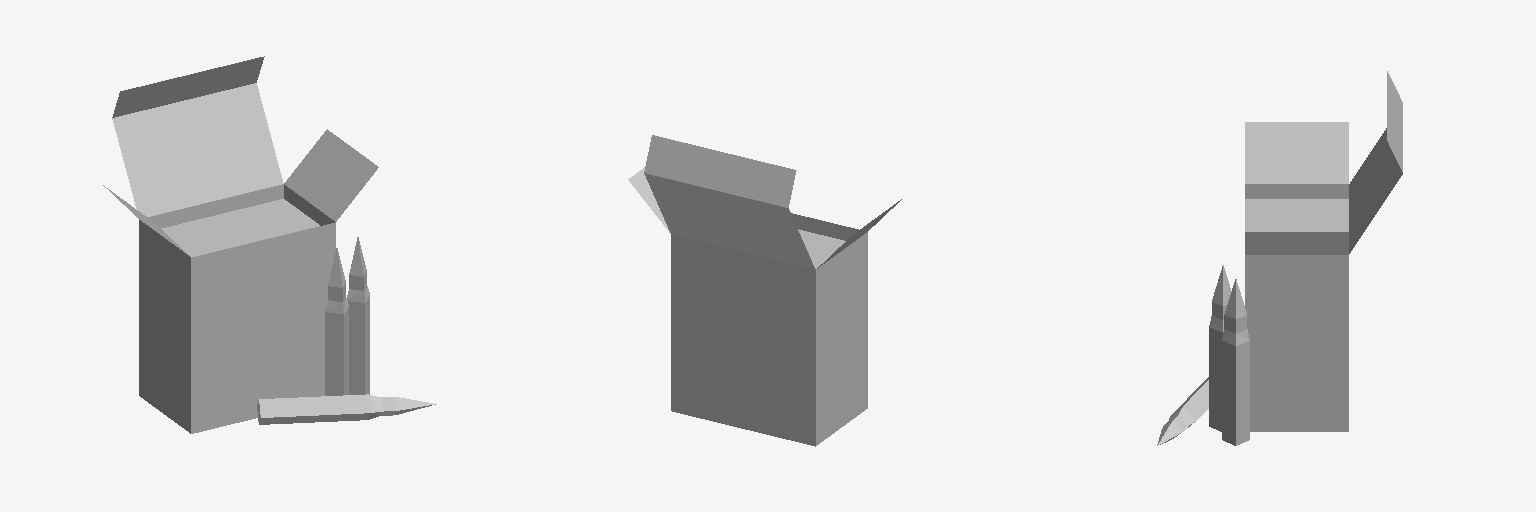
The model's file is Auto_Ammo_240.obj.
The picture shows the model from 3 angles: view 1: azimuth 30°, elevation 25°; view 2: azimuth 150°, elevation 25°; view 3: azimuth 270°, elevation 25°; orthographic projection.
Visible parts, largest first — view 1: Auto_Ammo_Box; view 2: Auto_Ammo_Box; view 3: Auto_Ammo_Box.
Part boxes in pixels (left/top/right/bottom): Auto_Ammo_Box: left=103, top=56, right=435, bottom=433; Auto_Ammo_Box: left=628, top=135, right=901, bottom=446; Auto_Ammo_Box: left=1157, top=71, right=1402, bottom=445.
Size of the model in its own units: 0.4066 by 0.4728 by 0.3634.